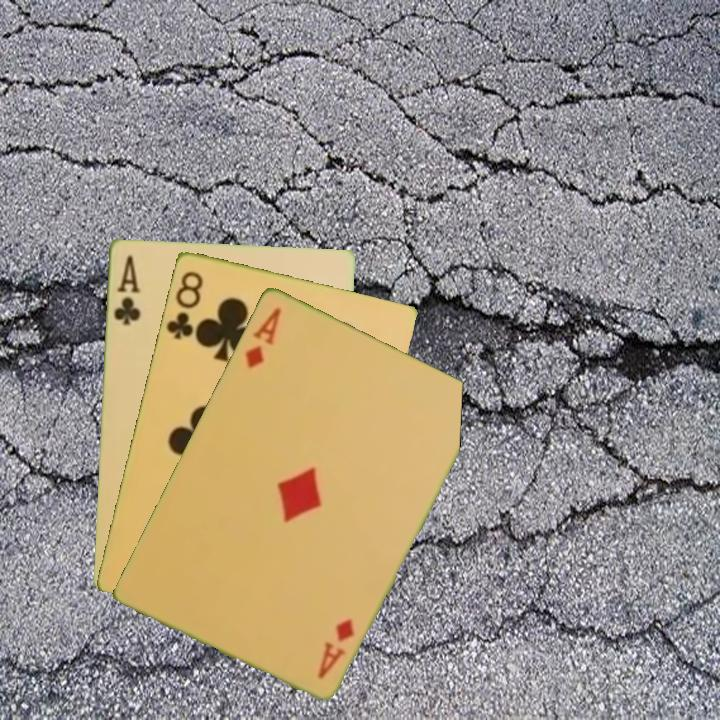8c: (162, 267, 206, 342)
Ac: (110, 251, 143, 328)
Ad: (241, 303, 285, 371), (314, 614, 357, 681)
